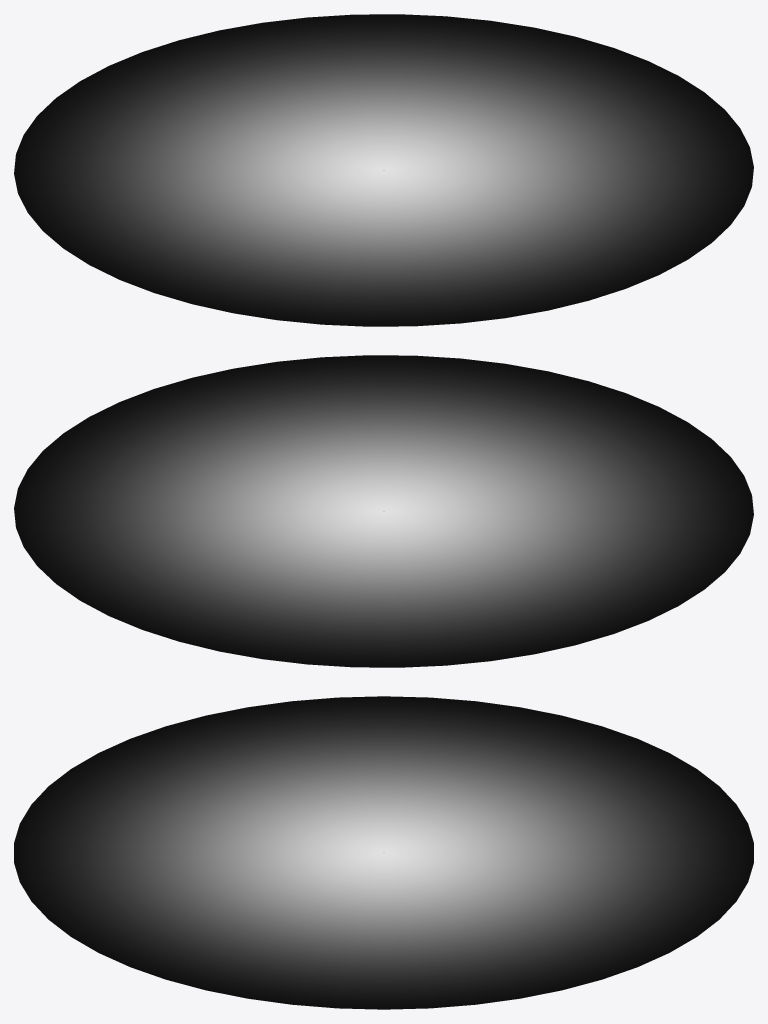
The model's file is Ring01.FBX.
3 renders of one model, top to bottom at view 1: azimuth 30°, elevation 25°; view 2: azimuth 150°, elevation 25°; view 3: azimuth 270°, elevation 25°, orthographic.
Visible parts, largest first — view 1: Ring01; view 2: Ring01; view 3: Ring01.
Boxes of the visible parts, x1,y1,x2,y2 form: Ring01: (14,14,753,326); Ring01: (14,355,753,667); Ring01: (14,696,753,1009).
Bounding box in the file's own units: 2190 × 0.000356 × 2185.
